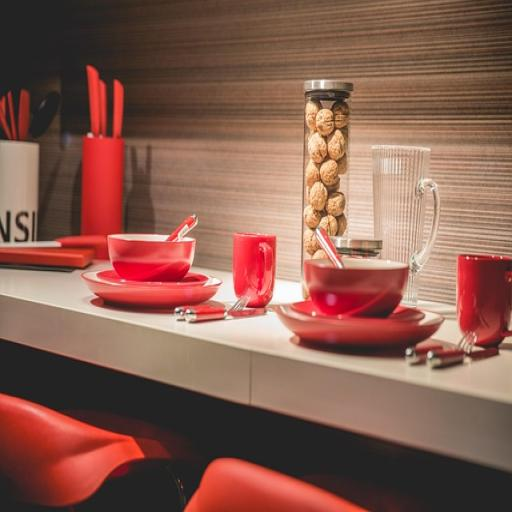phone: (457, 254, 512, 347), (233, 230, 276, 307)
